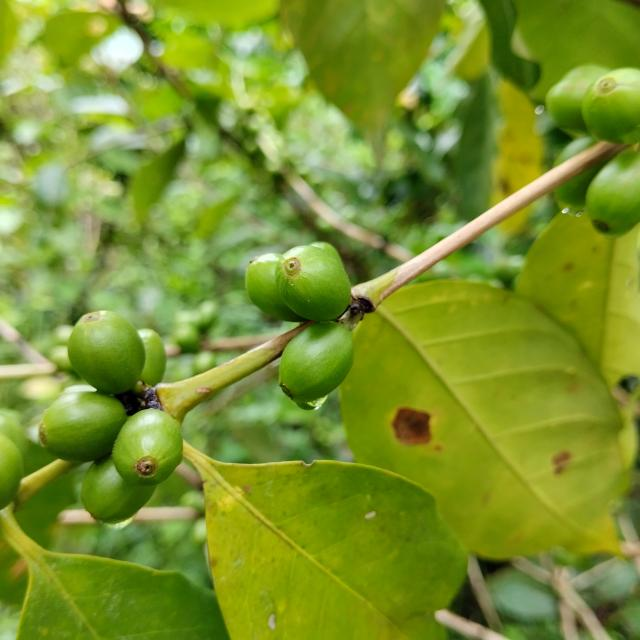green: (67, 311, 145, 395), (38, 391, 127, 463), (279, 321, 354, 403), (276, 245, 351, 321), (111, 409, 182, 486), (80, 457, 156, 524), (587, 150, 640, 238), (546, 64, 611, 132), (583, 67, 640, 141), (245, 253, 306, 322), (556, 162, 606, 208), (0, 433, 22, 510), (137, 329, 166, 386), (555, 135, 599, 166), (310, 241, 344, 267)
